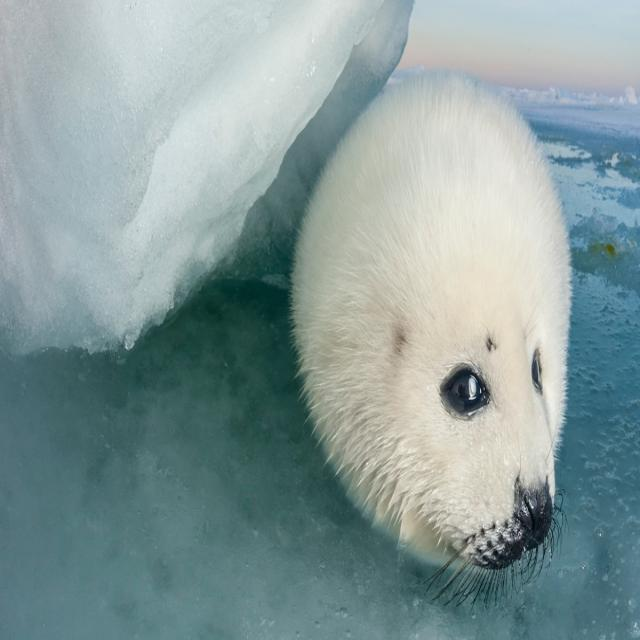WaterDog: (274, 59, 576, 594)
